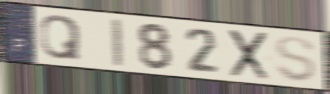2: (183, 26, 220, 75)
8: (136, 21, 175, 72)
I: (108, 18, 125, 68)
Q: (39, 13, 83, 62)
S: (273, 34, 318, 84)
X: (228, 27, 270, 82)
